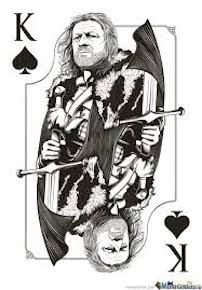KingOfSpades: (8, 4, 199, 278)
